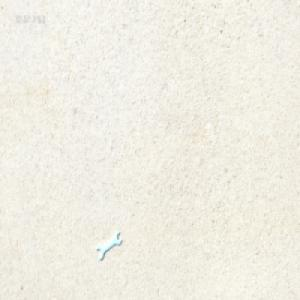Wrench: (97, 231, 121, 260)
